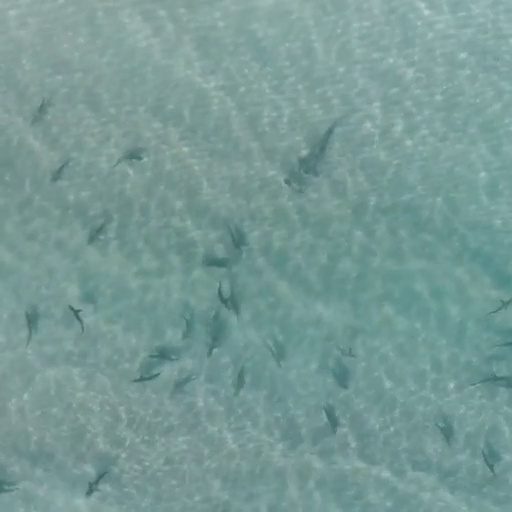shark: (294, 112, 352, 180)
